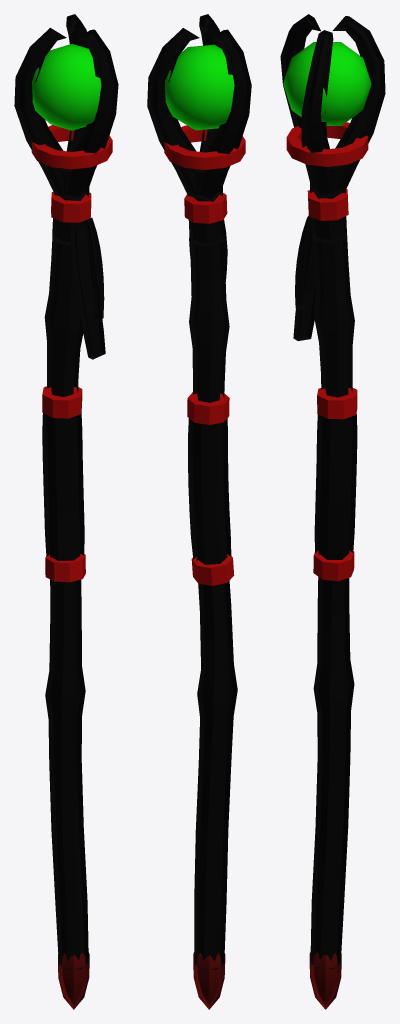
The model's file is SM_Staff.fbx.
3 views of the same model, side by side, from view 1: azimuth 90°, elevation 25°; view 2: azimuth 210°, elevation 25°; view 3: azimuth 270°, elevation 25° (orthographic).
Parts seen in each view (by area): view 1: SM_Staff; view 2: SM_Staff; view 3: SM_Staff.
Part boxes in pixels (x1,y1,x2,y2): SM_Staff: (14, 14, 118, 1009); SM_Staff: (147, 14, 251, 1009); SM_Staff: (280, 14, 385, 1009).
Size of the model in its own units: 0.1863 by 2 by 0.1921.
